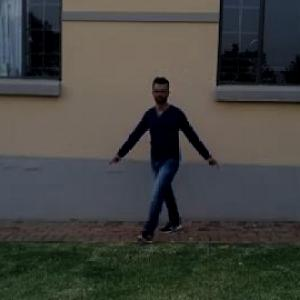land: (105, 71, 226, 252)
